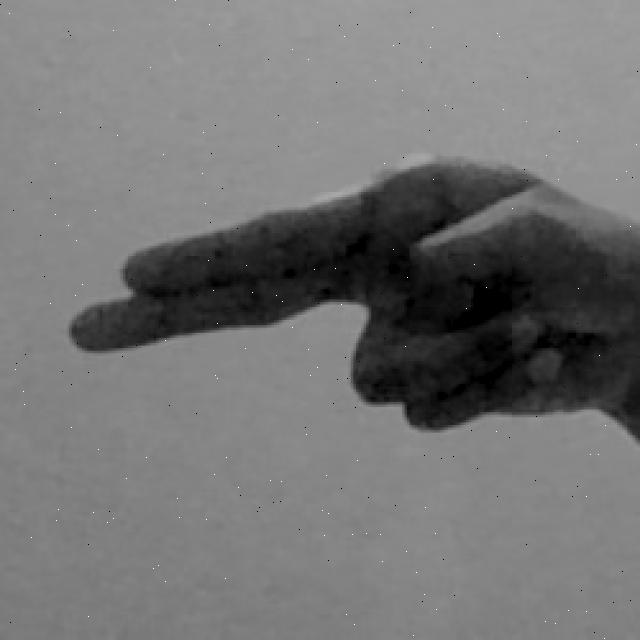H: (60, 146, 640, 454)
